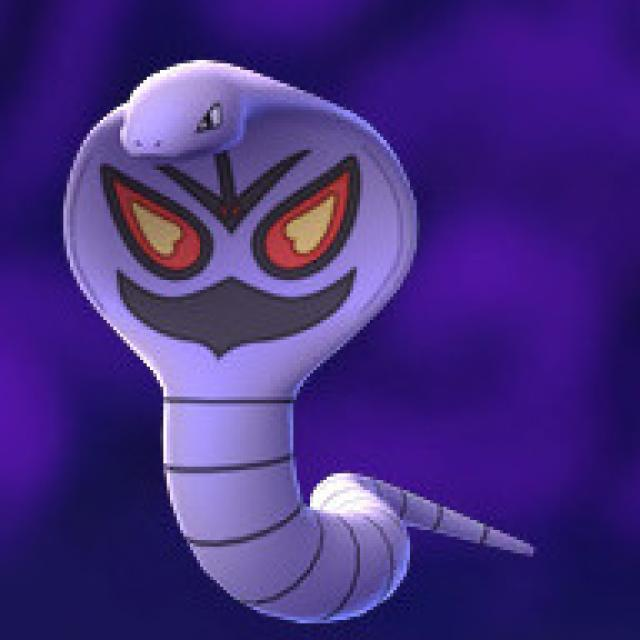Arbok: (60, 56, 418, 551)
